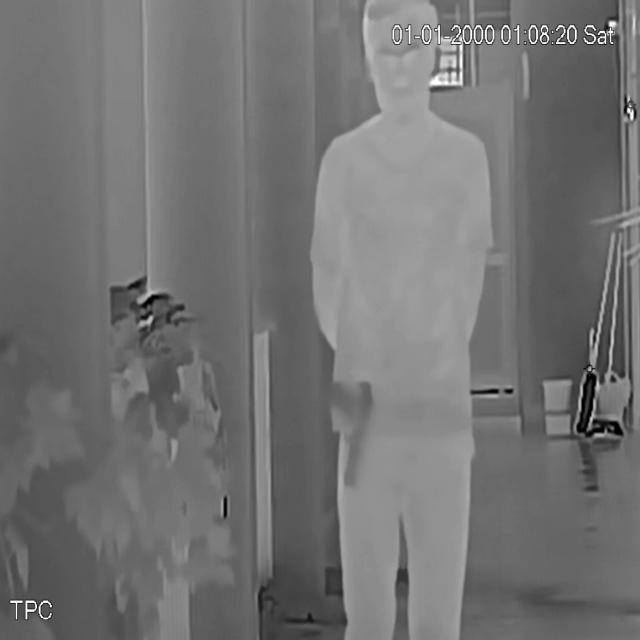Weapon: (321, 366, 391, 504)
